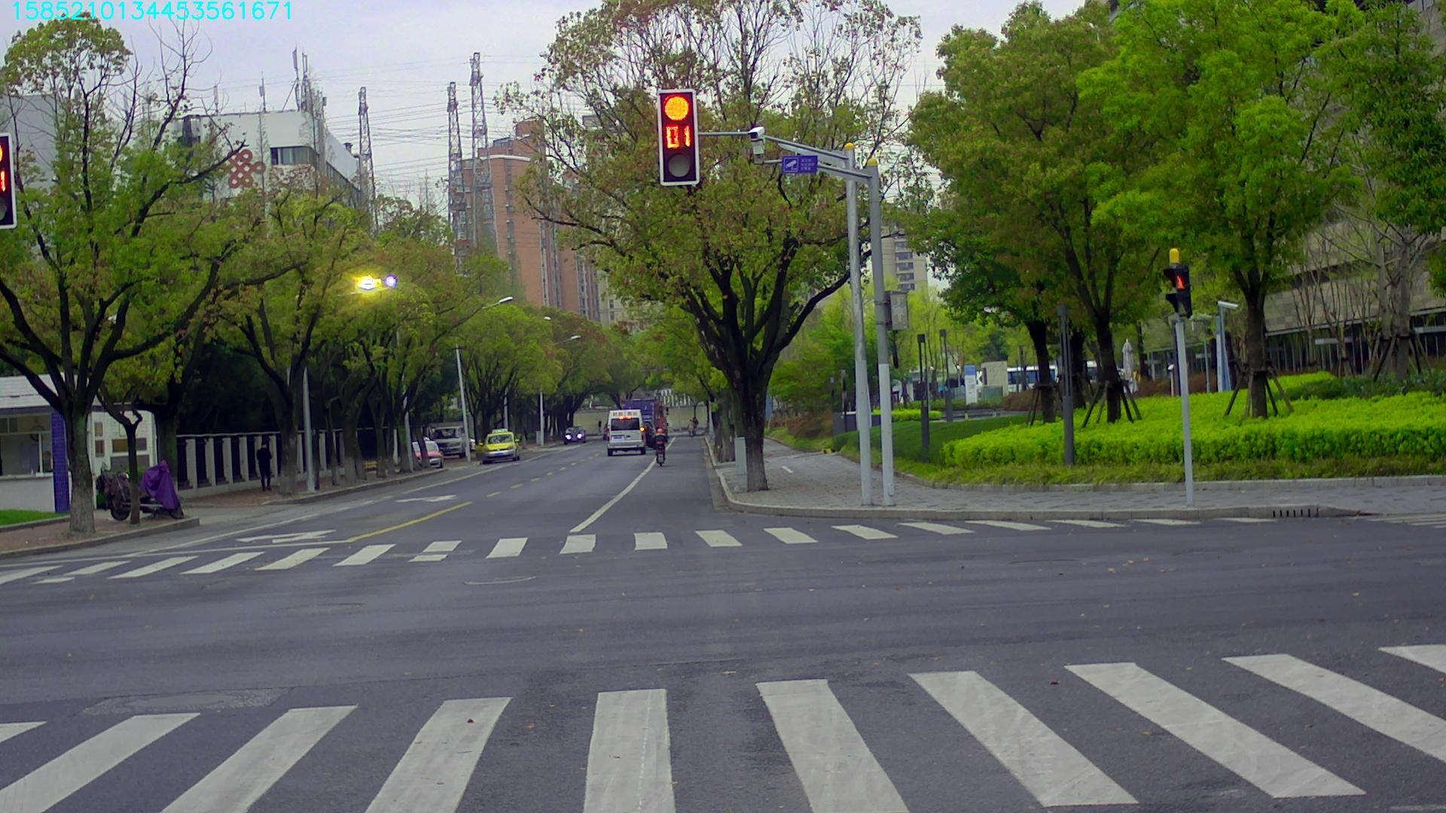red: (657, 90, 695, 183)
